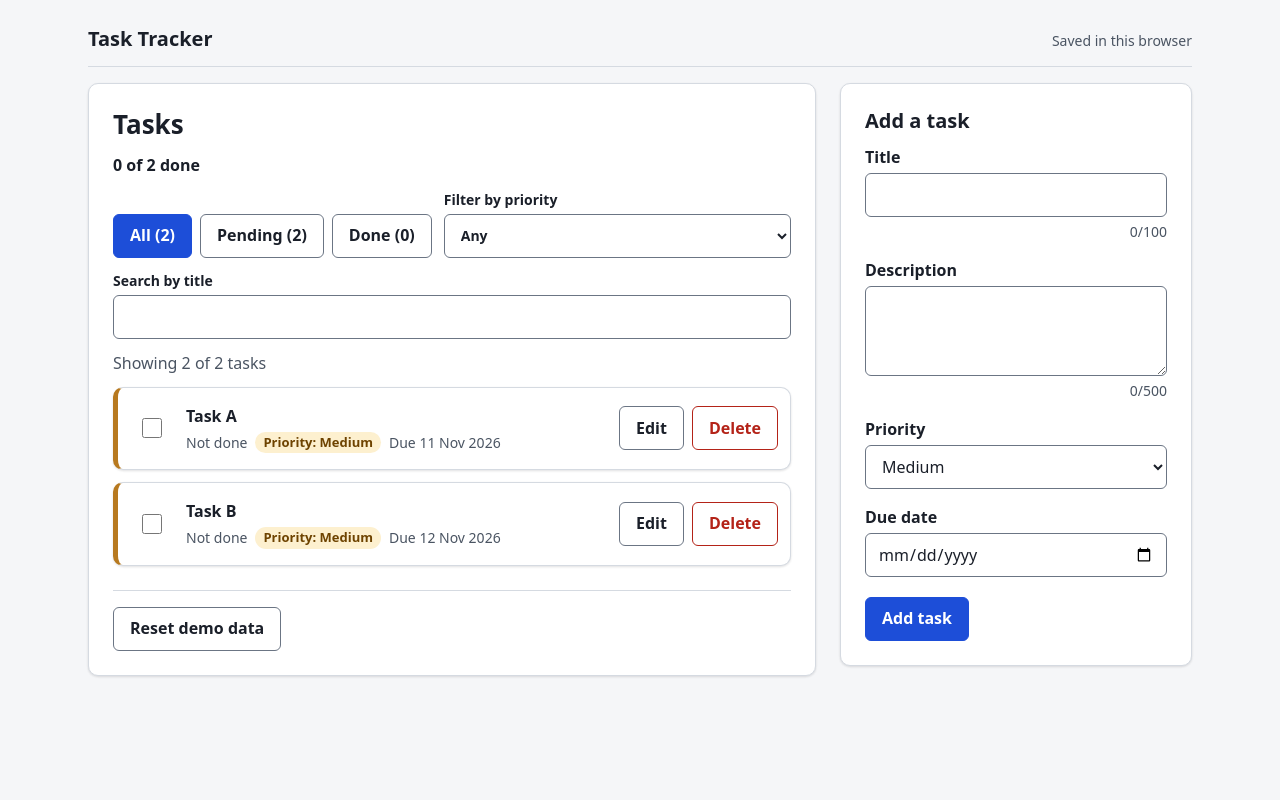
Test case: Reset demo data › Reset puts the 8 sample tasks back, clears Undo and announces it
The image size is (1280, 800).
Click the button with aria-label "Delete Task B" at coordinates (735, 524), box [692,502,778,546]
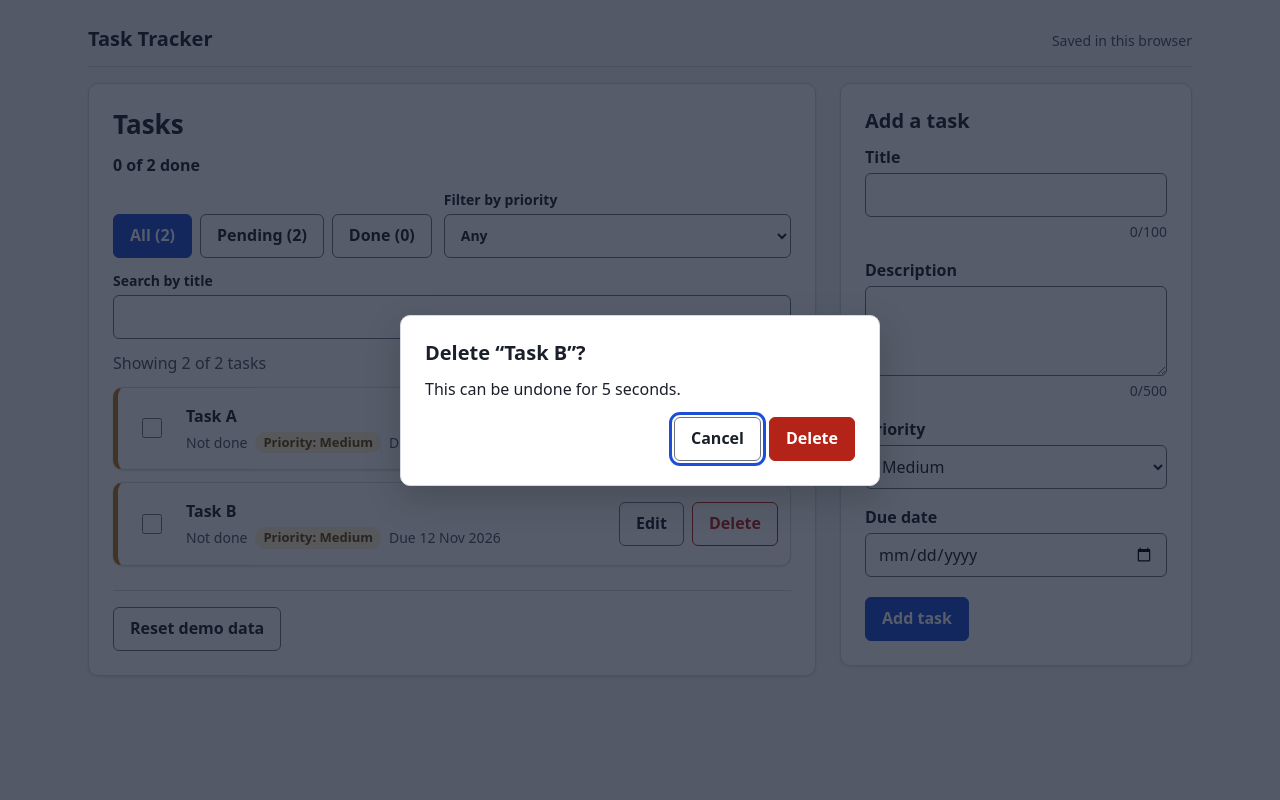
Click the button "Delete" at coordinates (812, 438), box [769,416,855,460]
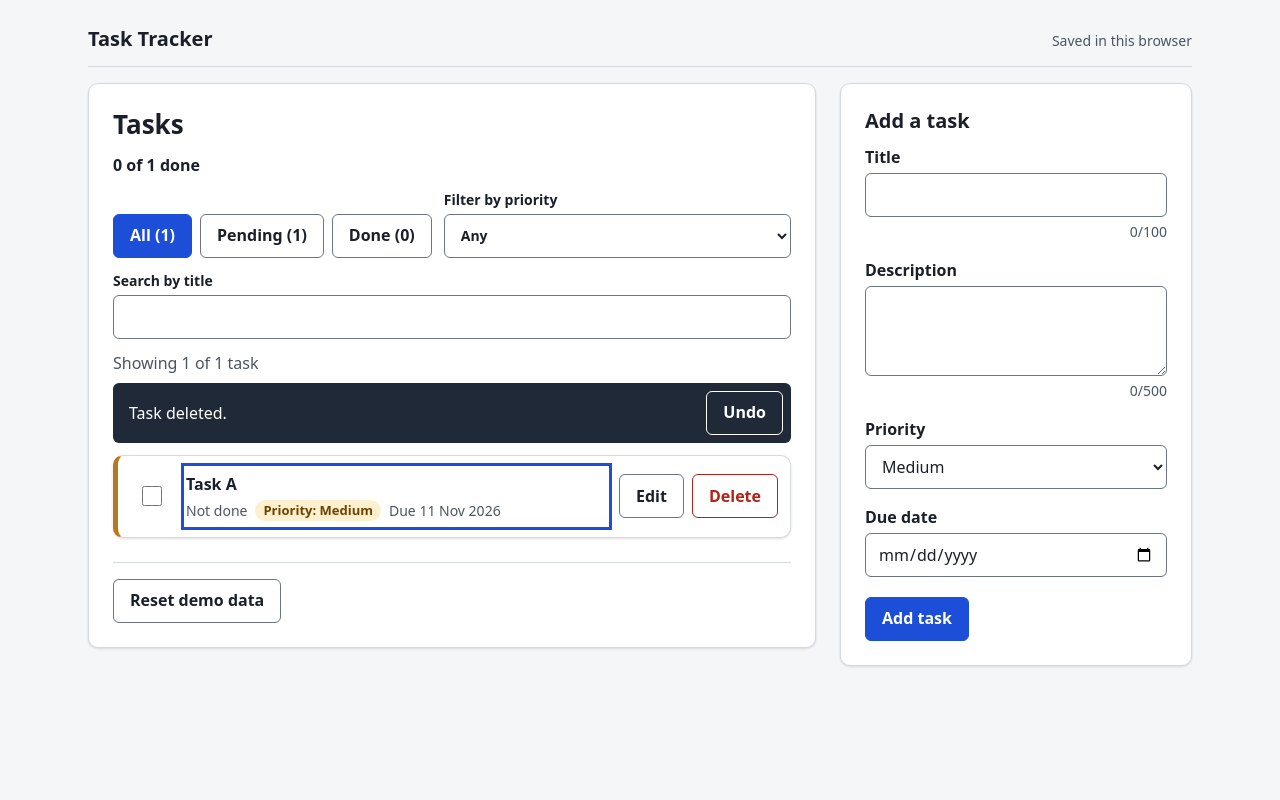
Result: the button "Undo" is shown at [706,390,783,434]
Click the button "Reset demo data" at coordinates (197, 601), box [113,579,281,623]
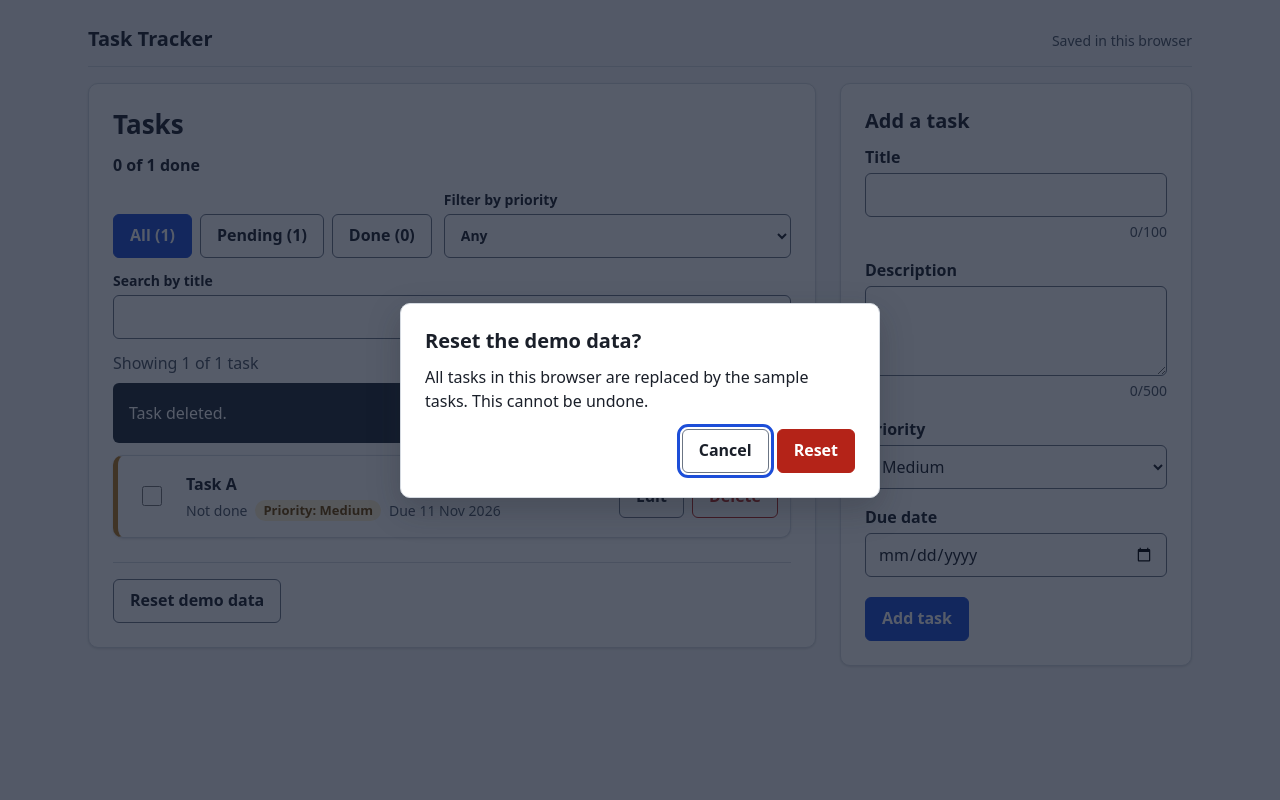
Double-click the button "Reset" at coordinates (816, 450), box [777,428,855,472]
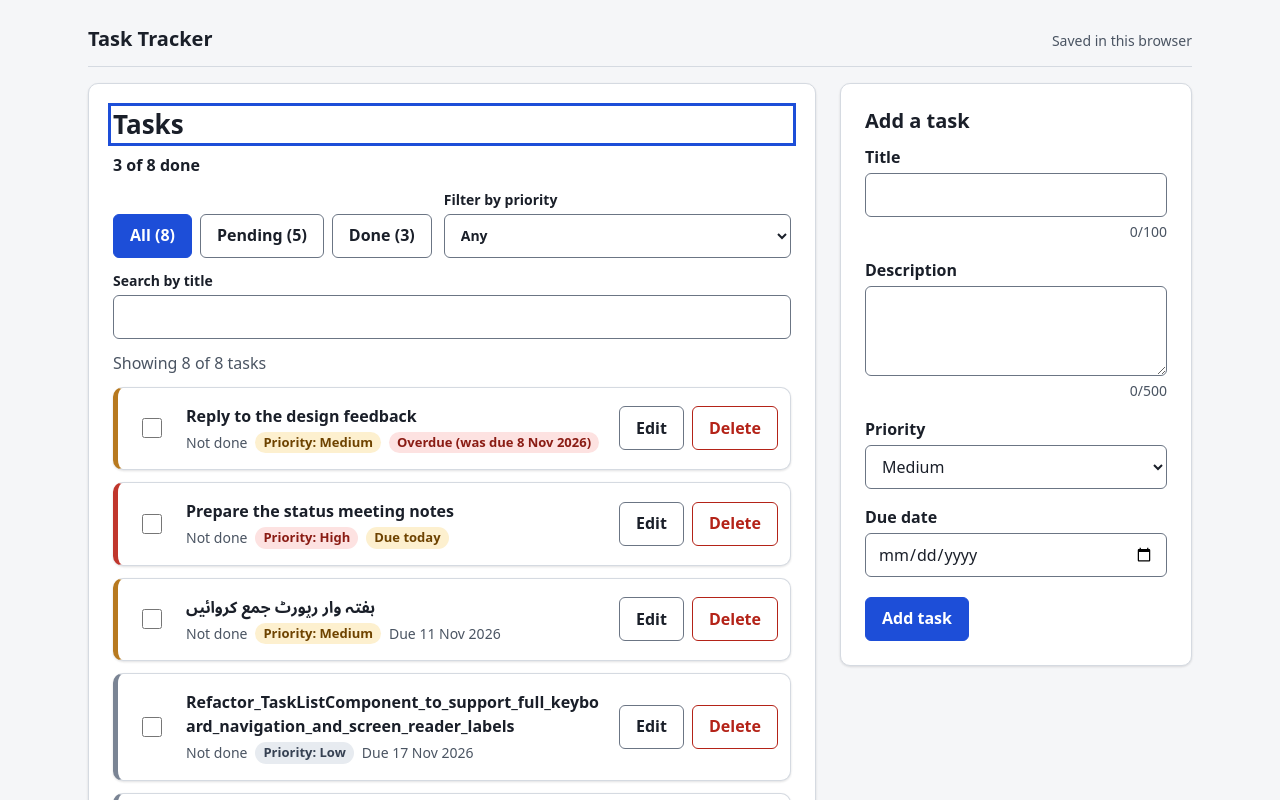
Result: the button "Undo" is gone
